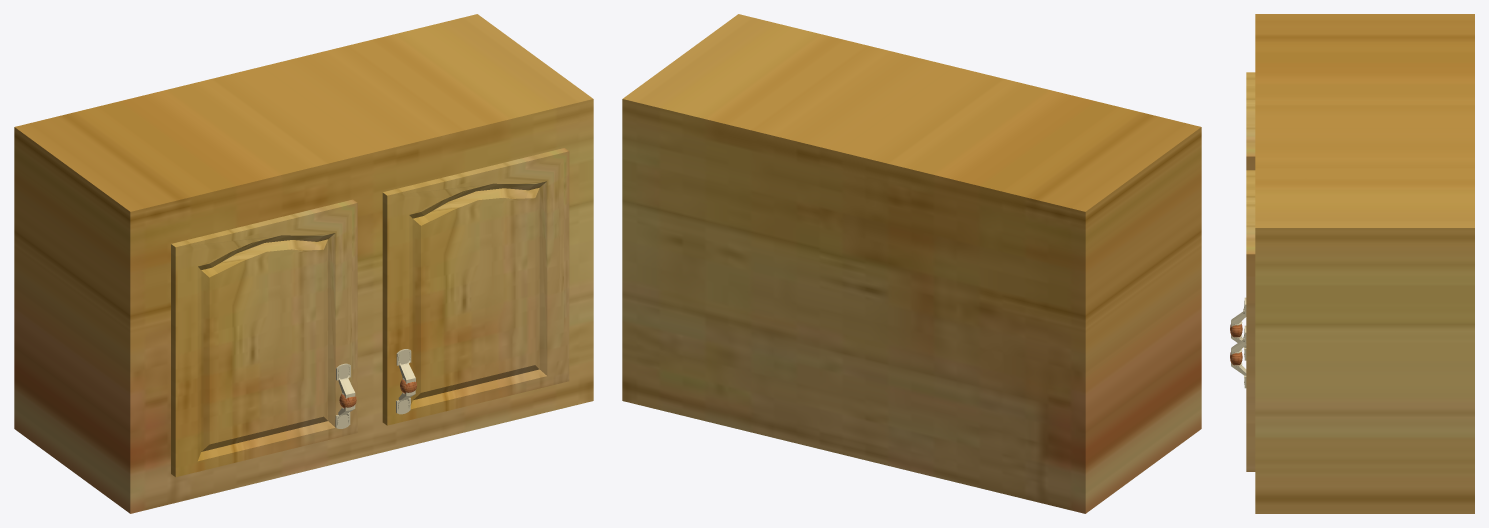
File: 2DoorUpperCabinet.glb
The picture shows the model from 3 angles, left to right: view 1: azimuth 30°, elevation 25°; view 2: azimuth 150°, elevation 25°; view 3: azimuth 270°, elevation 25°; orthographic projection. The views are drawn at different scales.
Visible parts, largest first — view 1: 2DoorUpperCabinet; view 2: 2DoorUpperCabinet; view 3: 2DoorUpperCabinet.
Part boxes in pixels (bbox=[...]): 2DoorUpperCabinet: bbox=[14, 14, 593, 513]; 2DoorUpperCabinet: bbox=[622, 14, 1201, 513]; 2DoorUpperCabinet: bbox=[1230, 14, 1474, 513].
Bounding box in the file's own units: 0.96 × 0.5984 × 0.4644.
Materials: 4 (3 with a texture image).
